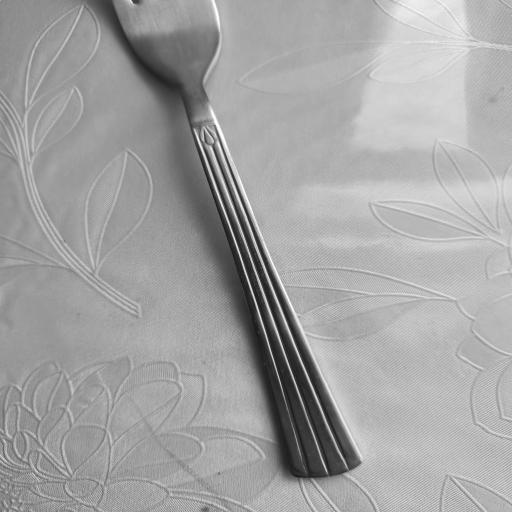fork: (111, 0, 364, 478)
